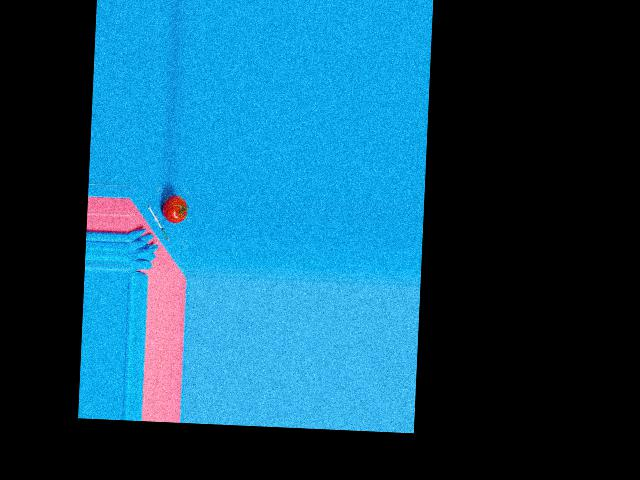tomato: (161, 195, 187, 223)
